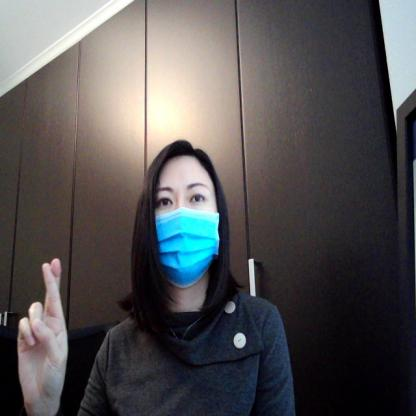right: (7, 252, 74, 415)
